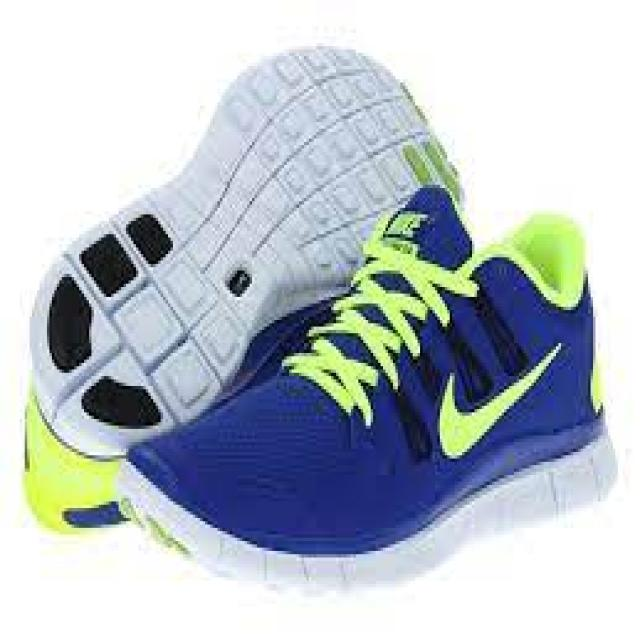shoes: (18, 49, 620, 578), (121, 182, 614, 583)
